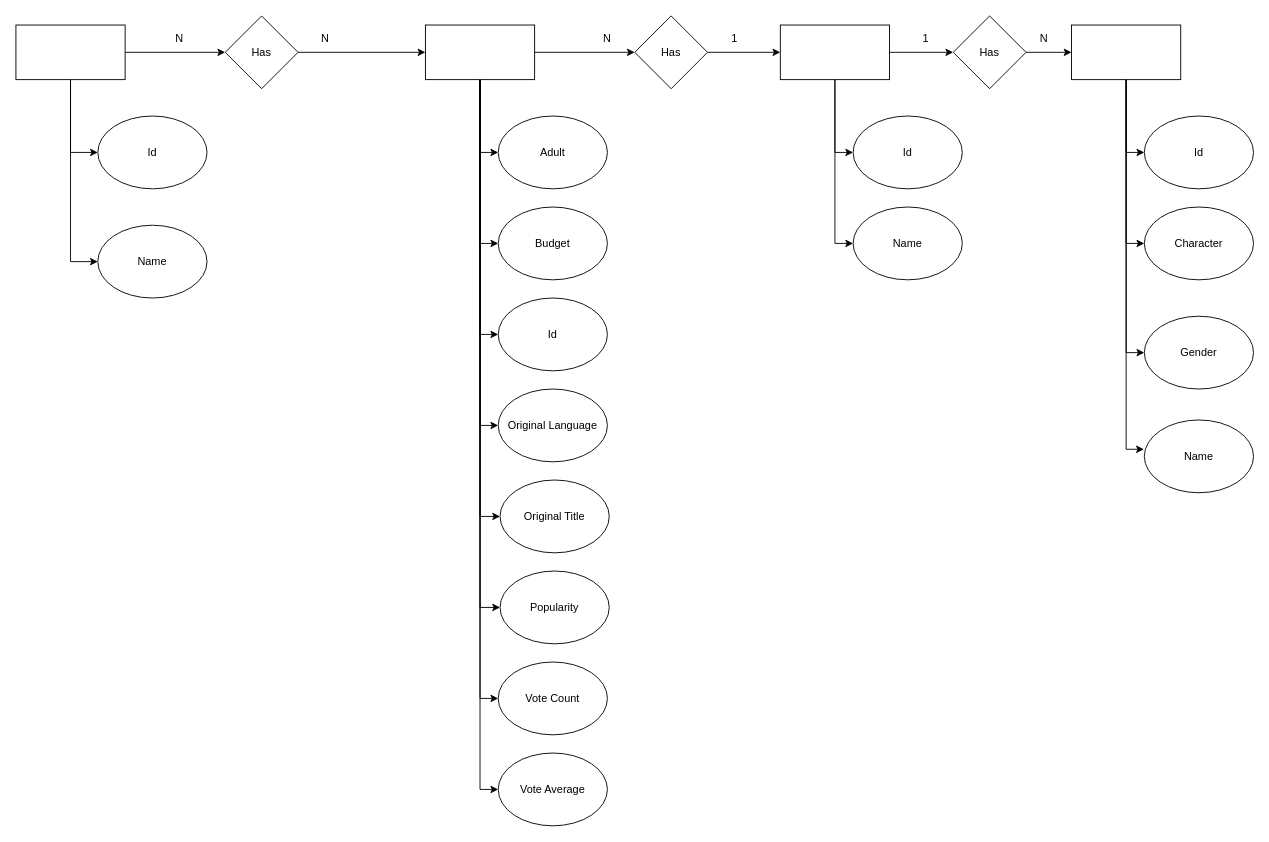
The diagram is 1269 pixels wide and 842 high, and some of its shapes have lost their labels. The box of each missing label's shape, as (x1, y1, x2, y2) in pixels:
Cast: (1071, 24, 1181, 80)
Collection: (779, 24, 890, 80)
Genre: (15, 24, 125, 80)
Movies: (425, 24, 535, 80)
